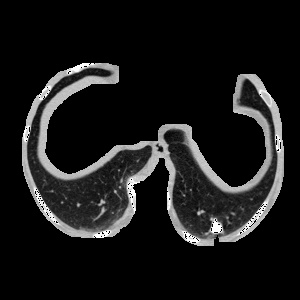PN: (210, 221, 222, 233)
